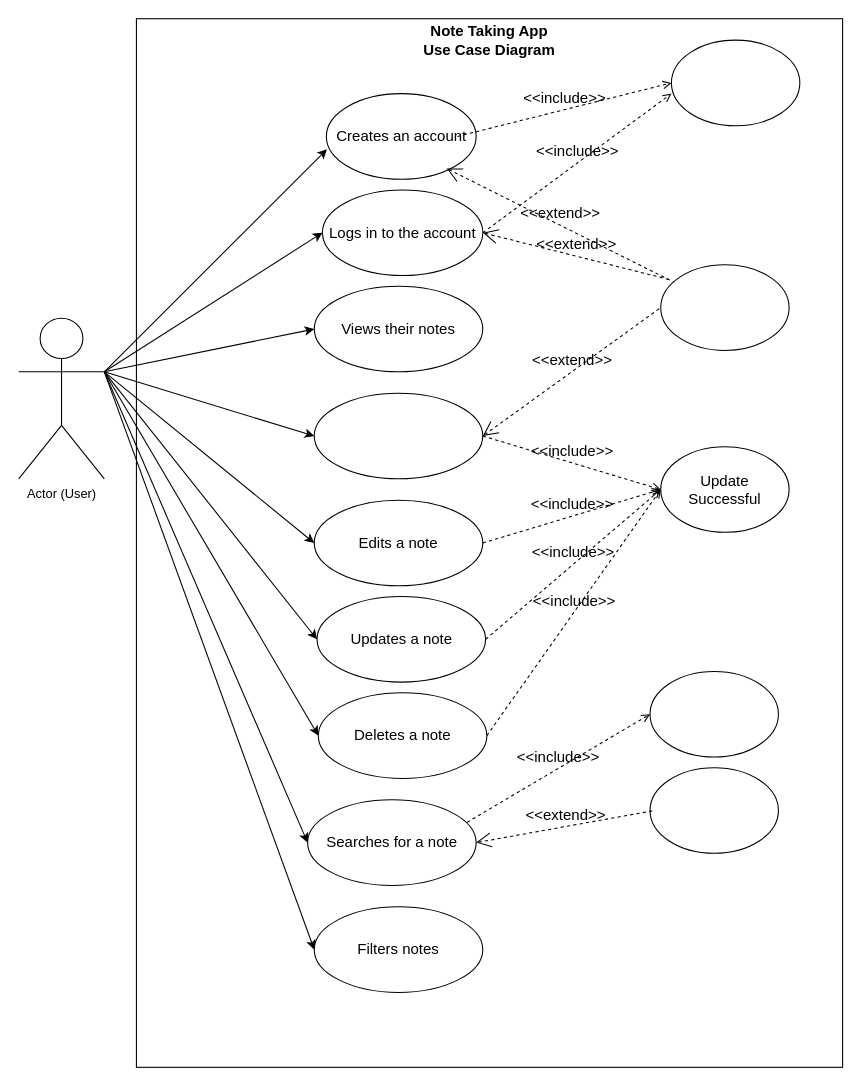
This 861x1086 diagram has some shape labels left out. Here are the shapes that lost their labels. From the top down, the centre of each, then its label:
At (x=735, y=82): "Verify credentials".
At (x=724, y=307): "Return error".
At (x=398, y=435): "Create a note".
At (x=713, y=713): "Note found".
At (x=713, y=810): "Note not found".
